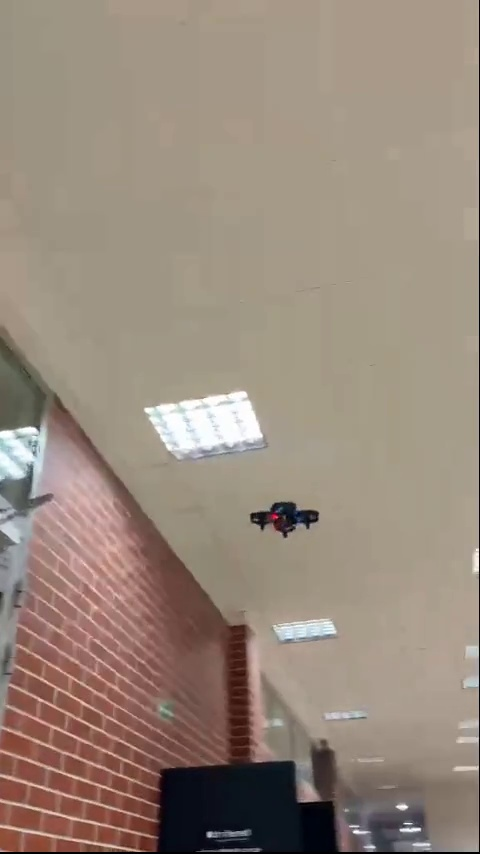drone: (242, 499, 319, 542)
